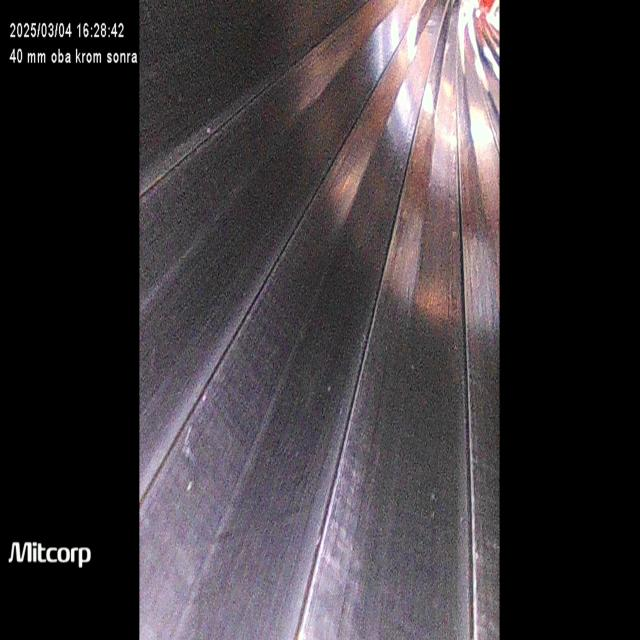hata_4.2: (197, 462, 328, 590), (163, 405, 220, 506)
